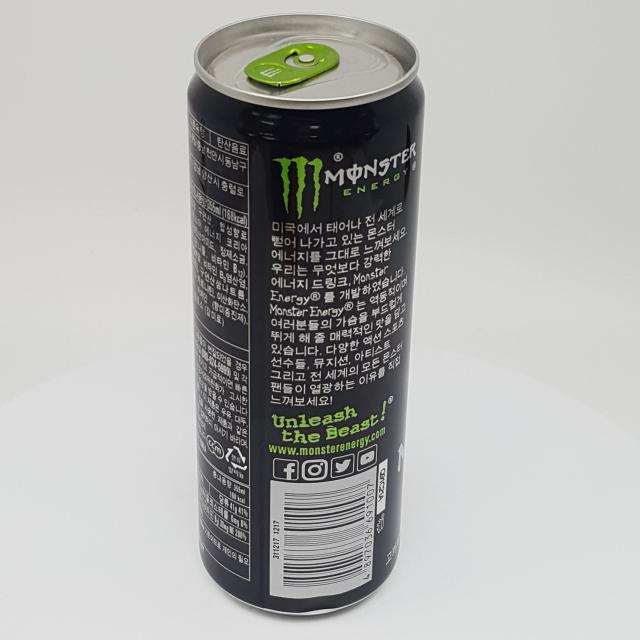--------355ML: (187, 13, 424, 615)
